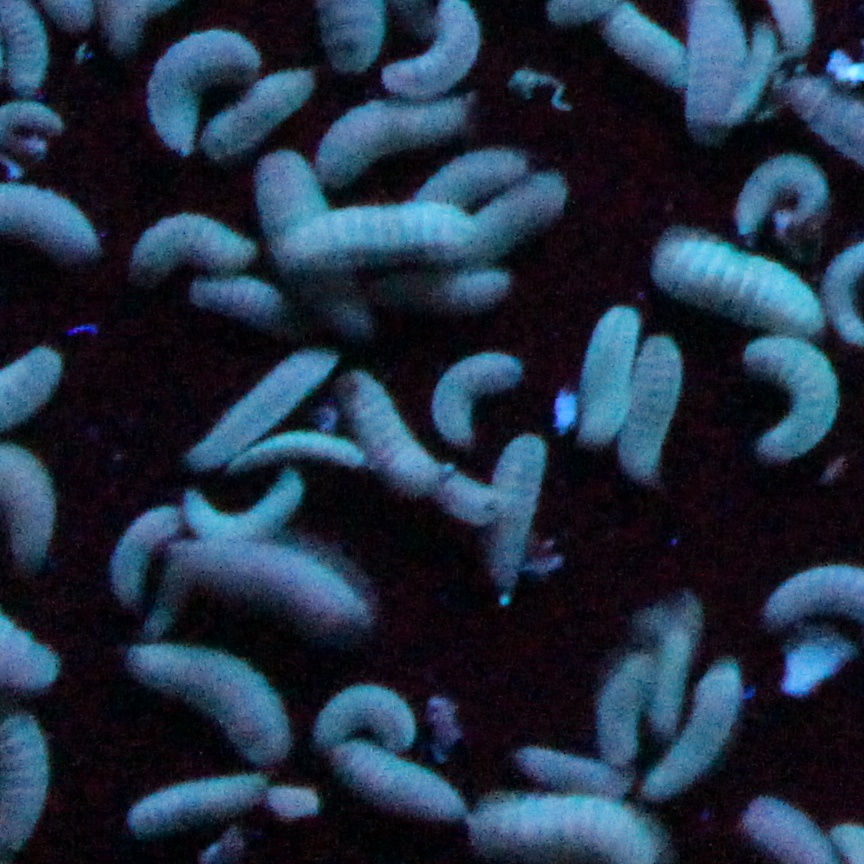larve: (154, 512, 371, 632), (644, 219, 829, 350), (126, 639, 301, 768), (136, 4, 272, 167), (181, 337, 340, 473), (306, 89, 475, 189), (453, 788, 681, 857), (644, 658, 744, 811), (335, 361, 446, 498), (272, 203, 483, 271), (744, 330, 840, 471), (478, 431, 559, 596), (322, 730, 469, 820), (721, 147, 842, 250), (567, 289, 637, 465), (203, 57, 319, 155), (118, 206, 268, 281), (176, 461, 311, 543), (609, 8, 727, 96), (422, 344, 526, 442), (616, 339, 683, 485), (307, 668, 422, 751), (118, 773, 277, 833), (627, 599, 690, 743), (110, 497, 181, 602)
